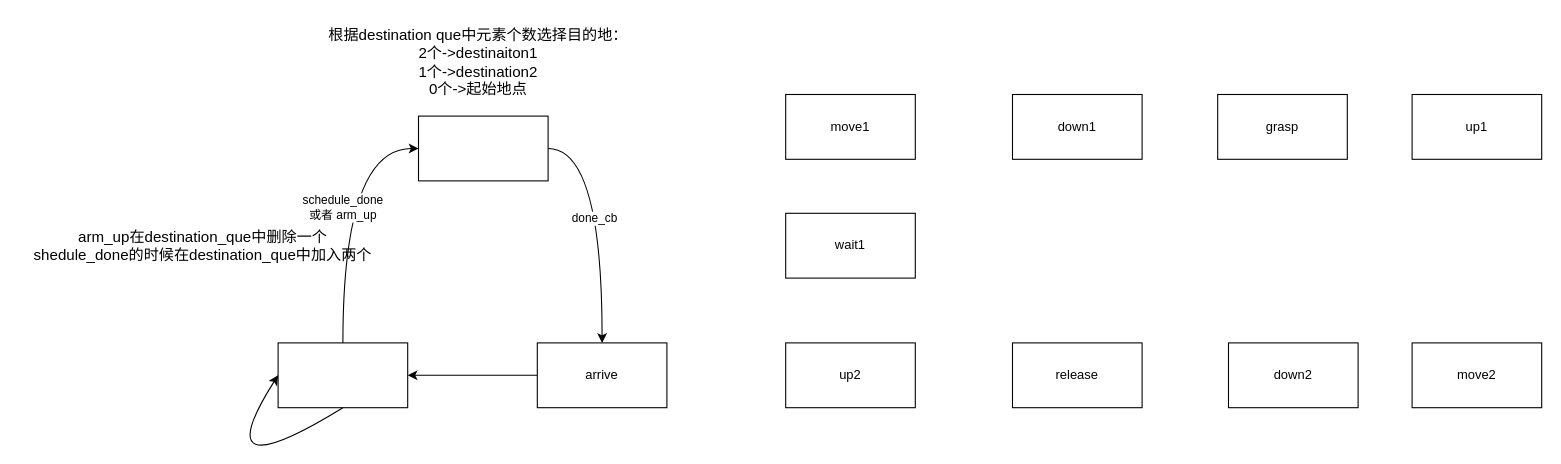
This 1561x464 diagram has some shape labels left out. The shapes that lost their labels are listed below. From the top down, each one's centre as x and y in pixels, then its label:
point (482, 148): move
point (342, 375): wait
